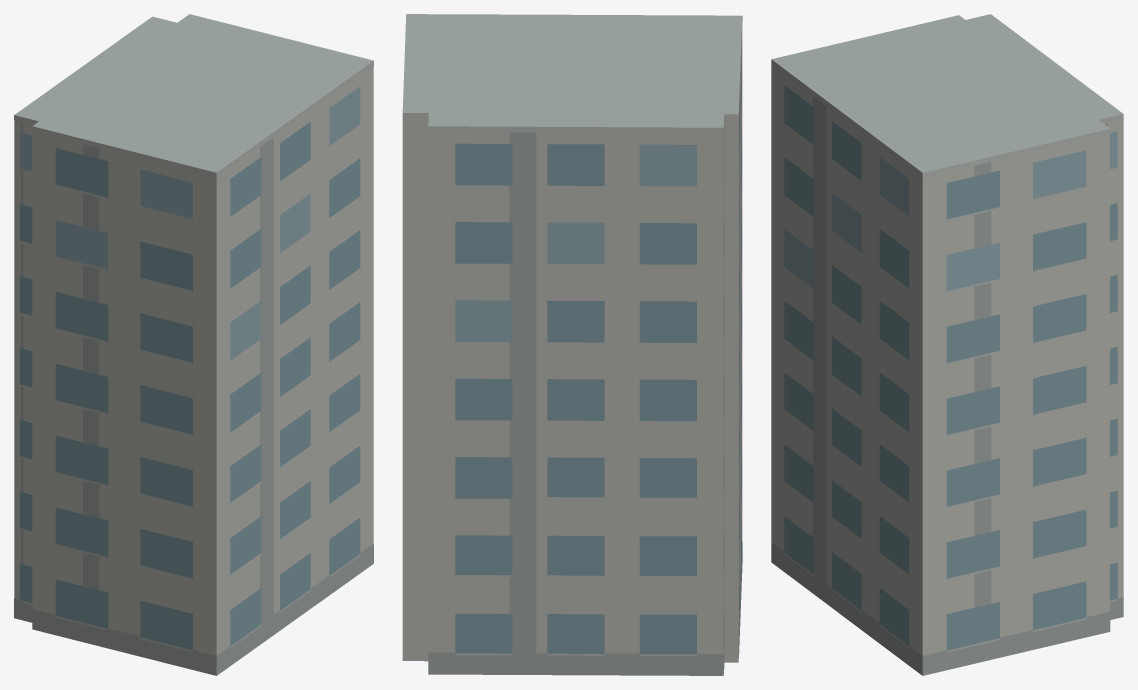
The model's file is survey-upis-32769194.glb.
3 views of the same model, side by side, from view 1: azimuth 30°, elevation 25°; view 2: azimuth 150°, elevation 25°; view 3: azimuth 270°, elevation 25° (orthographic). The views are drawn at different scales.
Parts seen in each view (by area): view 1: survey-upis-32769194.tmp; view 2: survey-upis-32769194.tmp; view 3: survey-upis-32769194.tmp.
Boxes of the visible parts, left/top/right/bottom form: survey-upis-32769194.tmp: left=14, top=14, right=373, bottom=675; survey-upis-32769194.tmp: left=402, top=14, right=742, bottom=675; survey-upis-32769194.tmp: left=771, top=14, right=1123, bottom=675.
Size of the model in its own units: 15.47 by 22.84 by 14.5.
